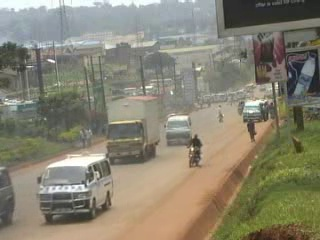Car: (0, 161, 17, 228)
Motorcycle: (184, 132, 207, 169), (236, 98, 246, 114)
